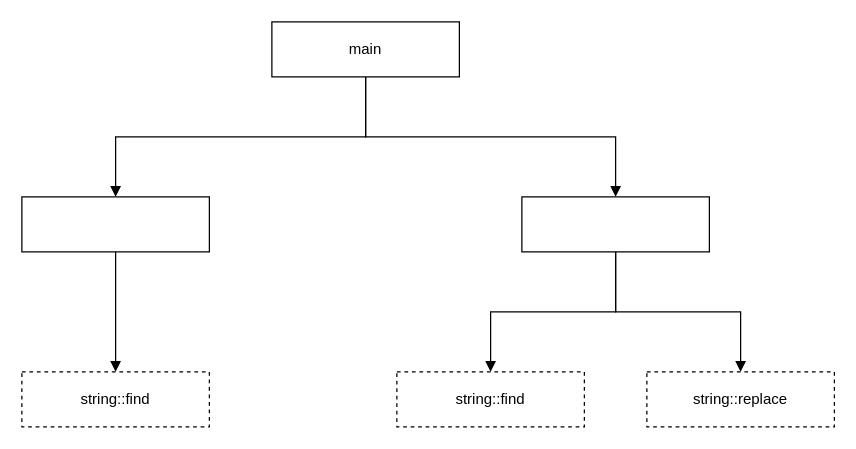
Some shapes in this 856 by 449 pixel diagram are drawn without their labels. The shapes that lost their labels are listed below. From the top down, each one's centre as x and y in pixels, then its label:
At (x=115, y=224): "ThirdComma".
At (x=615, y=224): "Change".
